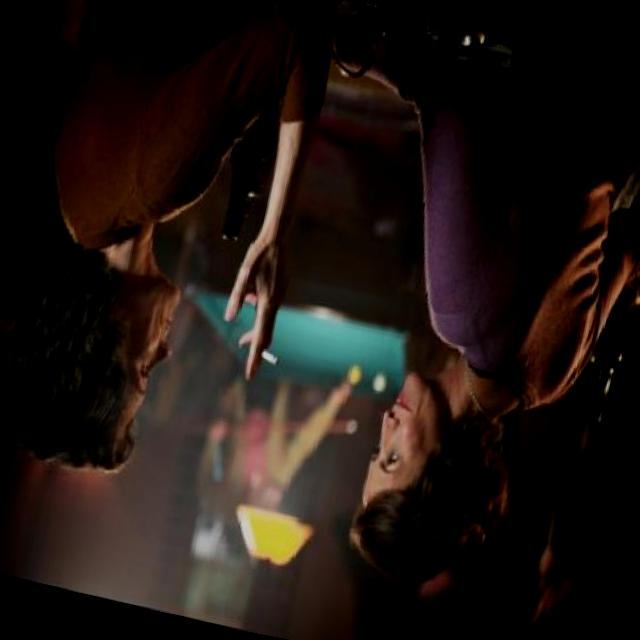smoke: (255, 346, 284, 368)
